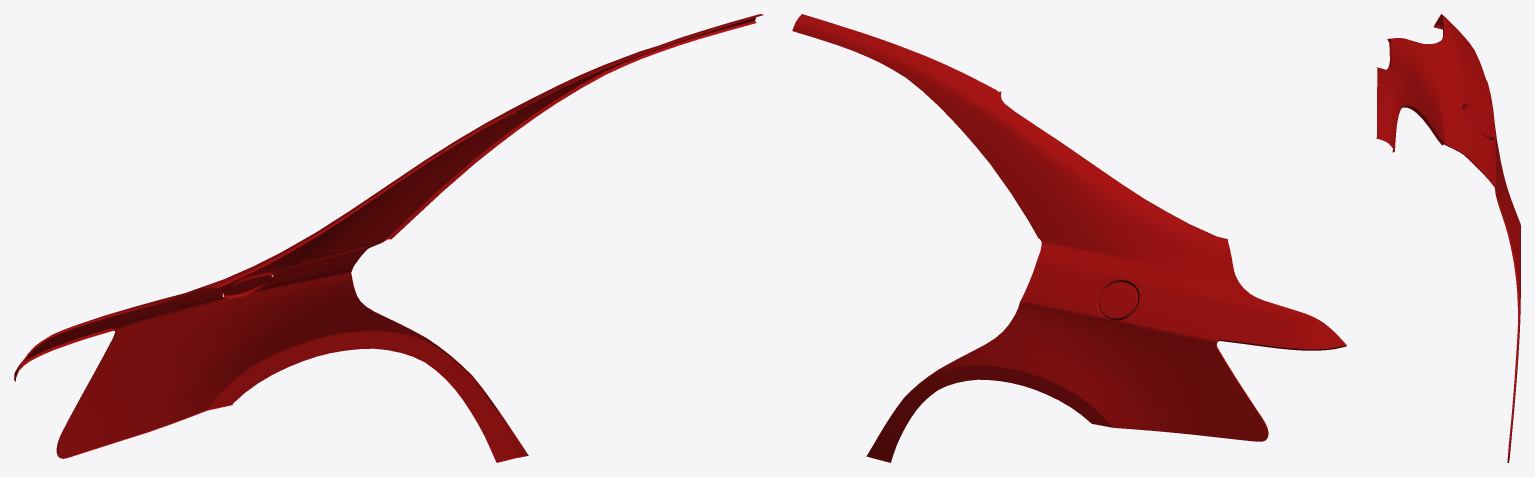
3 renders of one model, left to right at view 1: azimuth 30°, elevation 25°; view 2: azimuth 150°, elevation 25°; view 3: azimuth 270°, elevation 25°, orthographic. The views are drawn at different scales.
Visible parts, largest first — view 1: Y175_18_381B_L_1_DaS_Y175_18_381B_L, Y175_18_381B_L_1_DaS_Y175_18_381B_L_E; view 2: Y175_18_381B_L_1_DaS_Y175_18_381B_L, Y175_18_381B_L_1_DaS_Y175_18_381B_L_E; view 3: Y175_18_381B_L_1_DaS_Y175_18_381B_L, Y175_18_381B_L_1_DaS_Y175_18_381B_L_E.
Boxes of the visible parts, bbox=[...] form: Y175_18_381B_L_1_DaS_Y175_18_381B_L: bbox=[14, 14, 762, 462]; Y175_18_381B_L_1_DaS_Y175_18_381B_L_E: bbox=[14, 14, 763, 462]; Y175_18_381B_L_1_DaS_Y175_18_381B_L: bbox=[792, 14, 1346, 462]; Y175_18_381B_L_1_DaS_Y175_18_381B_L_E: bbox=[801, 14, 1346, 437]; Y175_18_381B_L_1_DaS_Y175_18_381B_L: bbox=[1378, 14, 1520, 461]; Y175_18_381B_L_1_DaS_Y175_18_381B_L_E: bbox=[1376, 14, 1519, 462].
Size of the model in its own units: 178 by 109 by 36.87.
